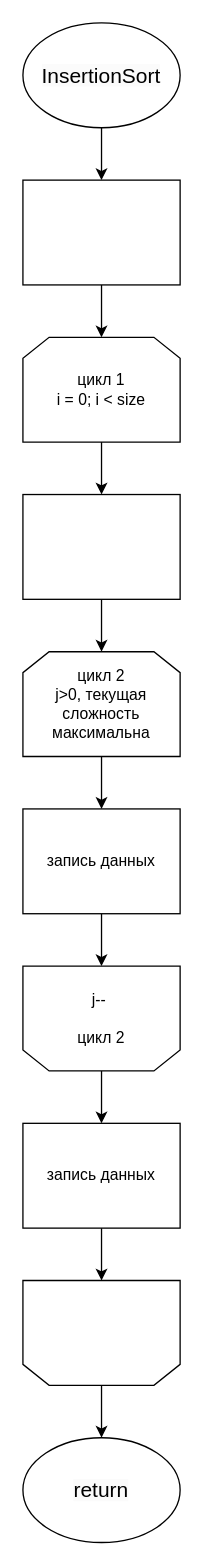
Some shapes in this 203 by 1565 pixel diagram are drawn without their labels. The centre of each missing label's shape, as x and y in pixels:
"i++ цикл 1" goes at (101,1332).
"изменение данных и определение j" goes at (101,546).
"иницилизация начальных данных" goes at (101,232).
